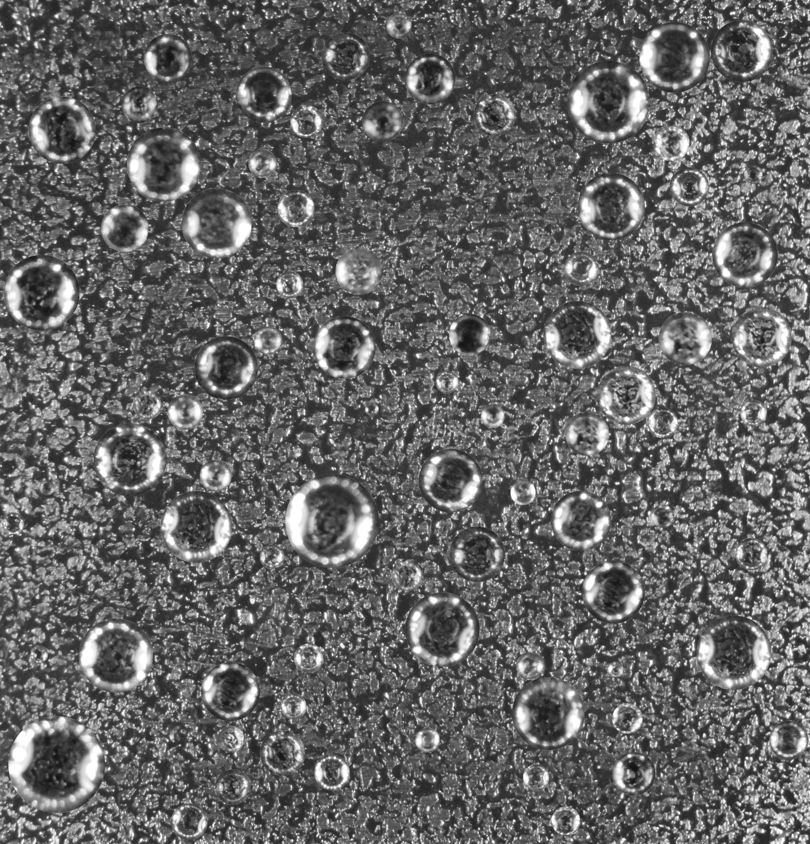Bubble: (8, 716, 104, 812), (285, 474, 378, 567), (567, 60, 649, 143), (3, 254, 79, 330), (696, 615, 771, 689), (405, 592, 479, 666), (126, 127, 200, 201), (78, 618, 152, 692), (93, 423, 166, 496), (512, 677, 584, 749), (160, 491, 232, 562), (181, 188, 251, 258), (639, 22, 709, 92), (543, 301, 611, 368), (28, 96, 95, 163), (577, 173, 644, 240), (712, 222, 777, 287), (418, 448, 482, 512), (194, 336, 257, 399), (582, 561, 644, 623), (313, 316, 375, 378), (711, 20, 772, 81), (551, 490, 611, 550), (731, 307, 791, 367), (201, 662, 259, 721), (597, 366, 655, 424), (235, 66, 291, 122), (449, 526, 504, 581), (658, 312, 711, 365), (404, 53, 455, 104), (143, 33, 191, 81), (321, 32, 369, 80), (101, 204, 148, 251), (335, 248, 382, 294), (260, 730, 305, 775), (565, 411, 609, 455), (612, 752, 655, 795), (473, 94, 515, 135), (449, 314, 490, 355), (362, 101, 402, 141), (769, 720, 808, 759), (669, 167, 708, 206), (277, 190, 314, 227), (171, 803, 207, 840), (653, 124, 689, 160), (121, 86, 157, 122), (167, 394, 202, 429), (314, 755, 349, 790), (215, 769, 250, 804), (564, 251, 598, 285), (391, 559, 423, 591), (290, 105, 322, 137), (735, 538, 767, 570), (199, 459, 231, 491), (647, 407, 678, 438), (612, 703, 642, 733), (132, 389, 162, 419), (294, 643, 323, 673), (551, 806, 580, 835), (254, 326, 282, 354), (516, 652, 544, 680), (248, 149, 276, 177), (276, 271, 303, 298), (217, 726, 244, 752), (740, 400, 767, 426), (280, 693, 306, 719), (523, 764, 549, 790), (259, 544, 284, 569), (510, 480, 535, 505), (386, 13, 411, 38), (480, 404, 504, 428), (415, 728, 439, 752), (651, 504, 674, 527), (435, 370, 458, 393), (2, 512, 24, 534), (744, 165, 762, 183), (30, 645, 47, 662), (607, 661, 623, 677), (39, 480, 54, 495), (365, 402, 378, 416)
